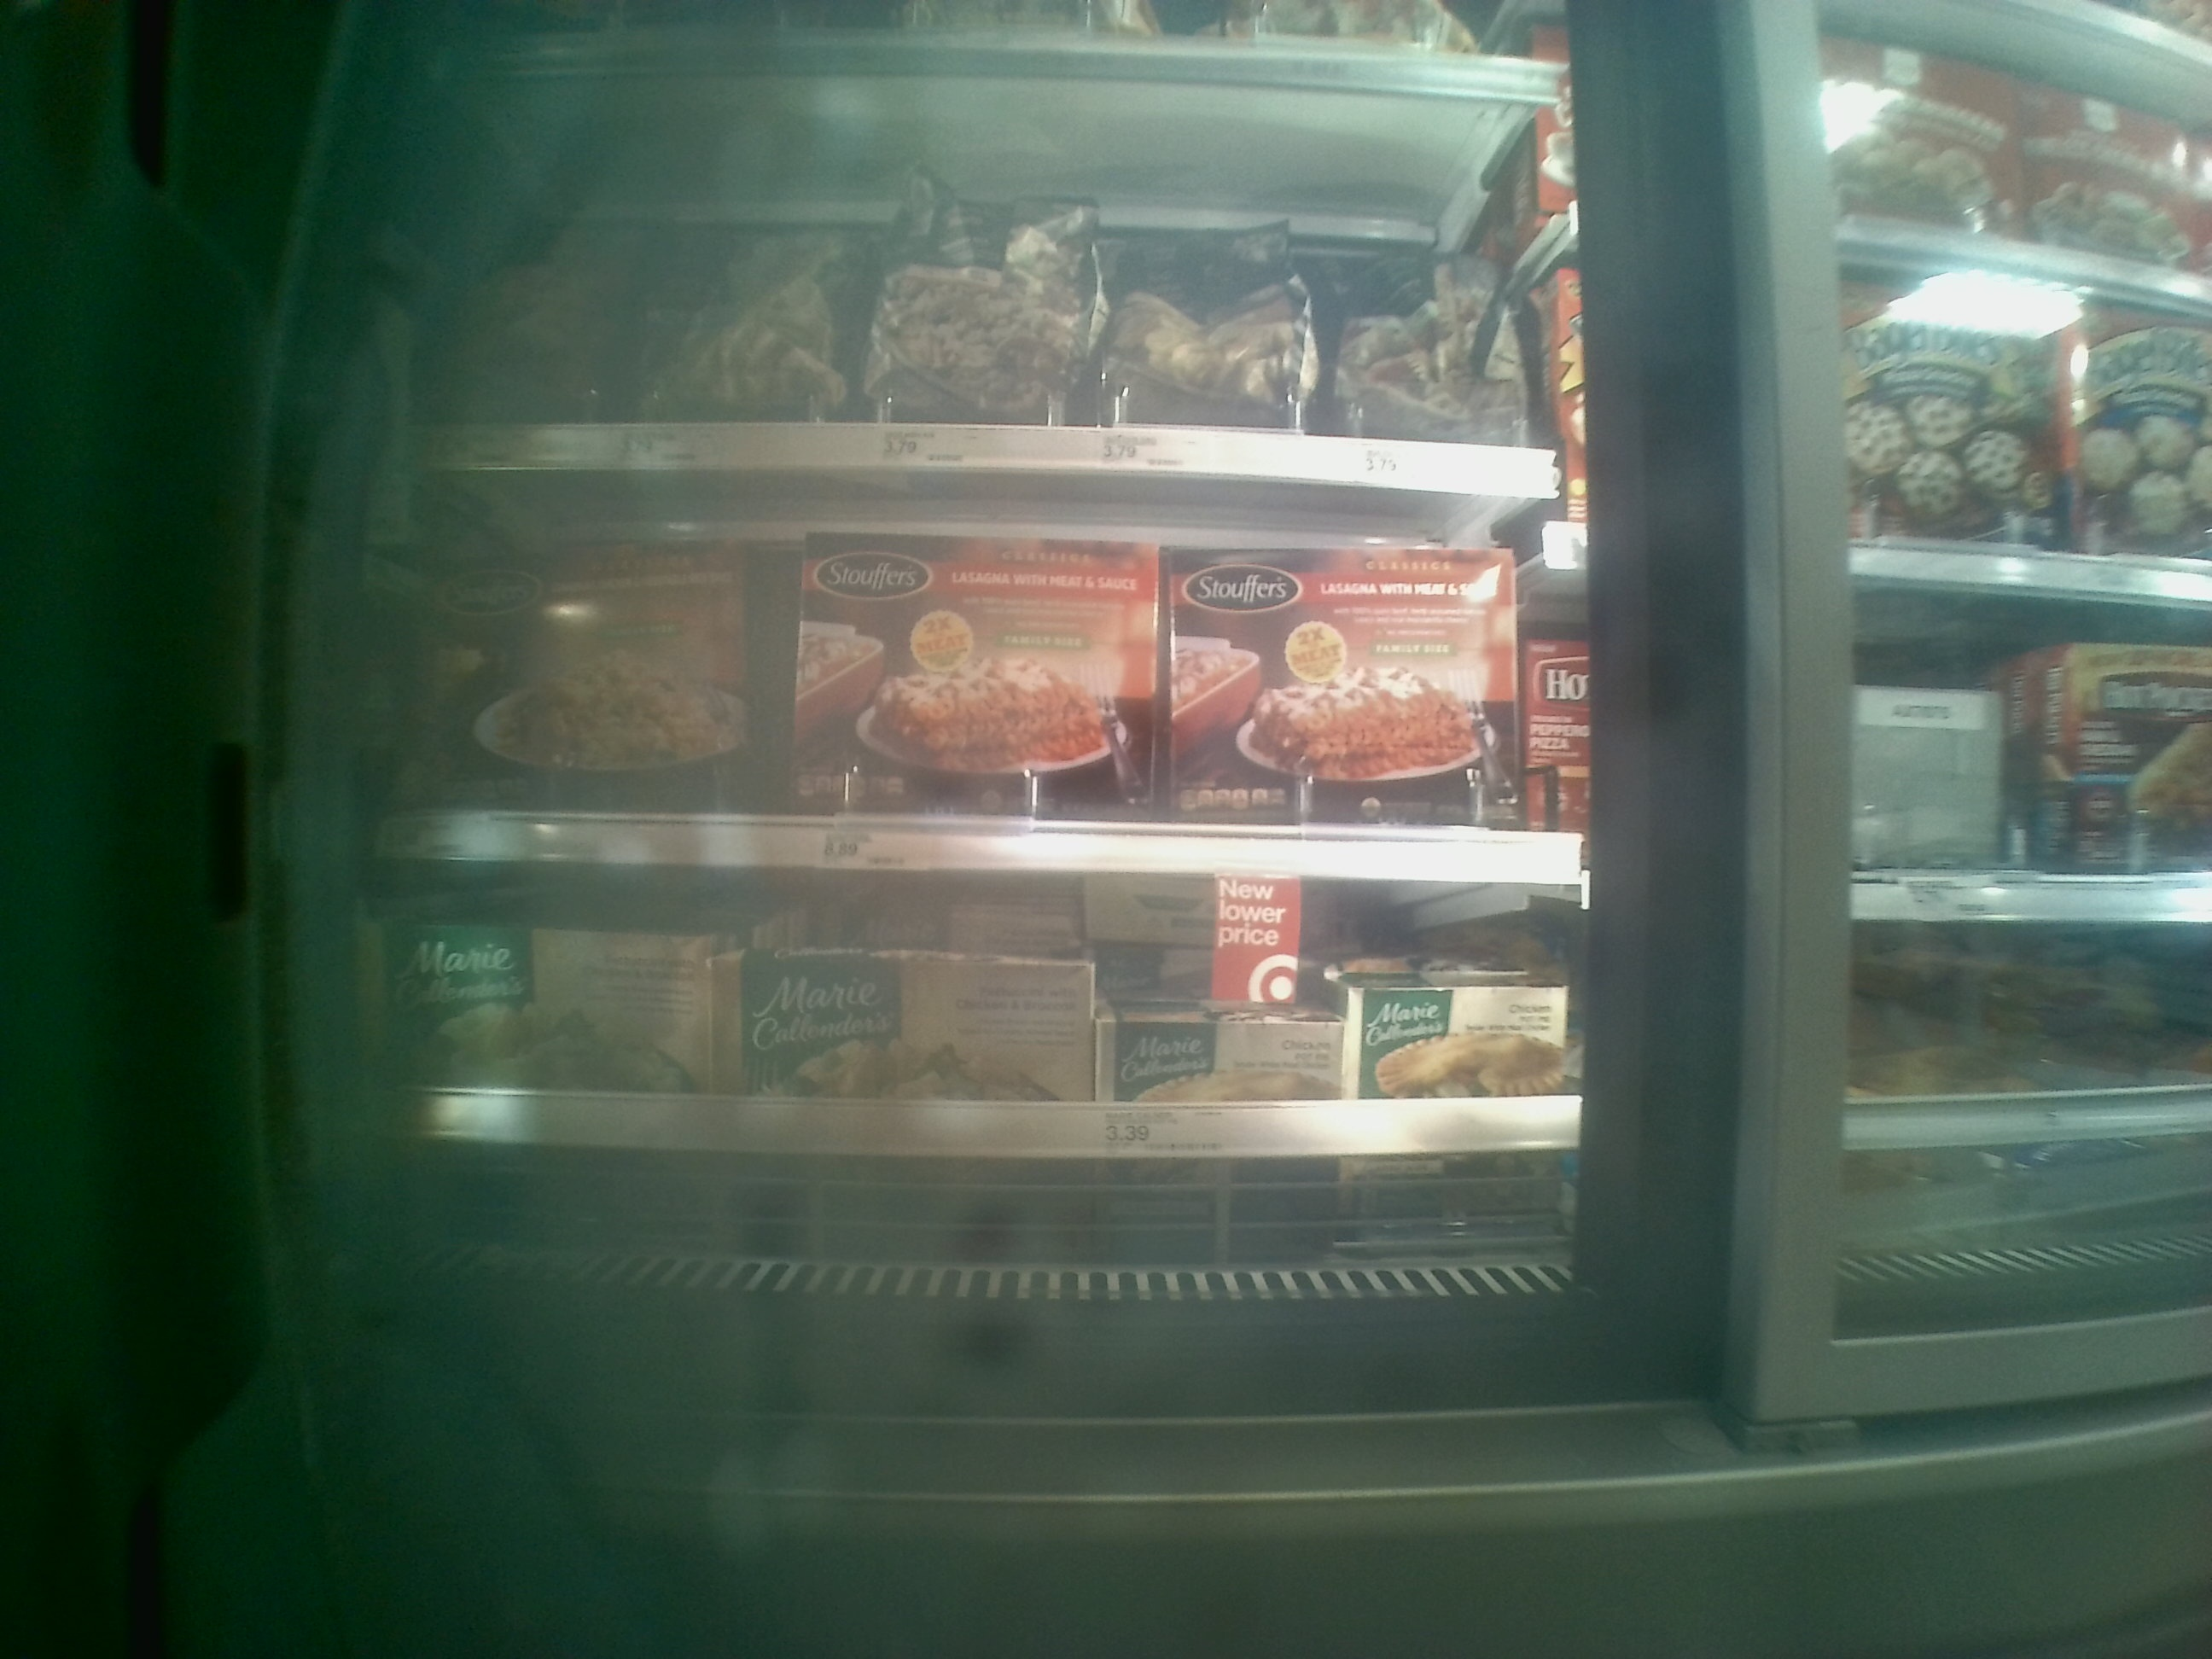frozen-food-shelf: (390, 509, 1580, 884), (390, 871, 1581, 1157)
